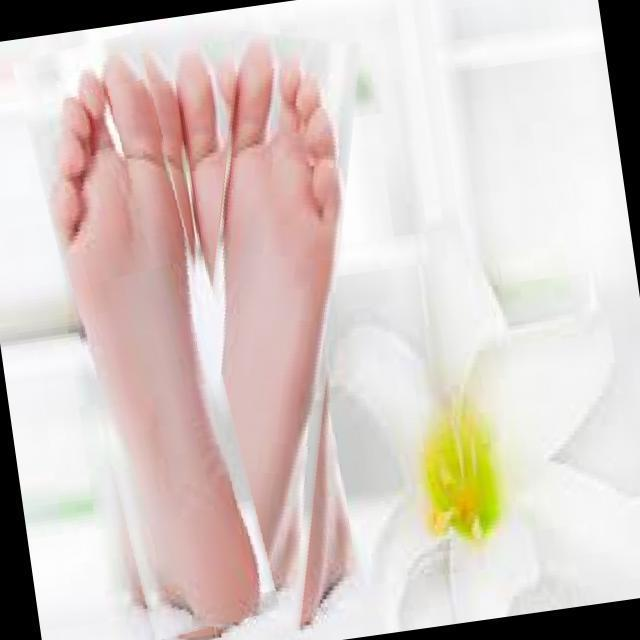No_Shoes: (48, 30, 384, 638)
